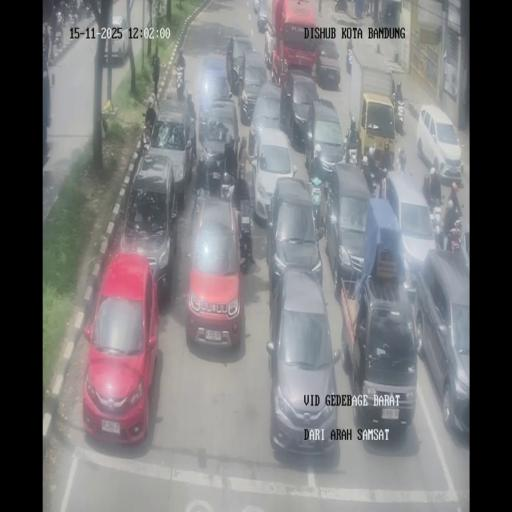car: (82, 250, 160, 443), (267, 271, 339, 458), (343, 269, 418, 438), (414, 250, 469, 440), (185, 198, 246, 350), (380, 171, 438, 292), (326, 162, 374, 290), (143, 100, 194, 205), (250, 122, 296, 226), (196, 100, 240, 196), (417, 104, 463, 184), (305, 95, 344, 181), (200, 54, 232, 117), (226, 34, 256, 94), (104, 14, 130, 65), (316, 38, 340, 89), (256, 0, 269, 30)
motorcycle: (425, 193, 445, 242), (190, 183, 207, 236), (309, 177, 325, 233), (238, 215, 254, 270), (370, 155, 388, 193), (446, 219, 462, 254), (142, 114, 156, 153), (393, 88, 405, 132), (344, 138, 360, 167), (187, 111, 197, 154), (42, 23, 51, 63), (175, 65, 185, 100), (396, 152, 408, 178), (54, 23, 63, 50), (77, 2, 89, 20), (390, 72, 396, 106), (346, 42, 352, 74), (70, 11, 78, 27), (56, 10, 64, 26), (365, 2, 372, 18)
truck: (350, 45, 398, 155), (266, 0, 318, 86)
